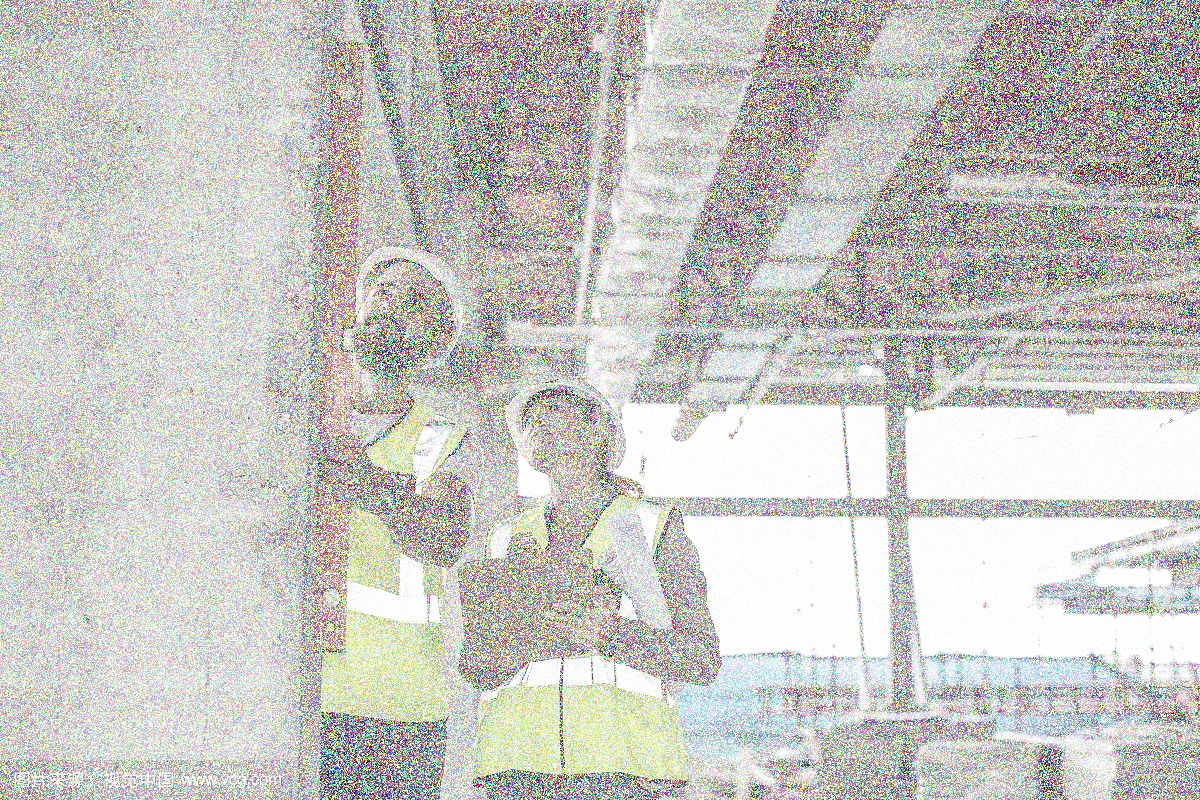helmet: (342, 239, 471, 380), (503, 369, 635, 482)
vest: (472, 474, 719, 792), (286, 391, 491, 727)
